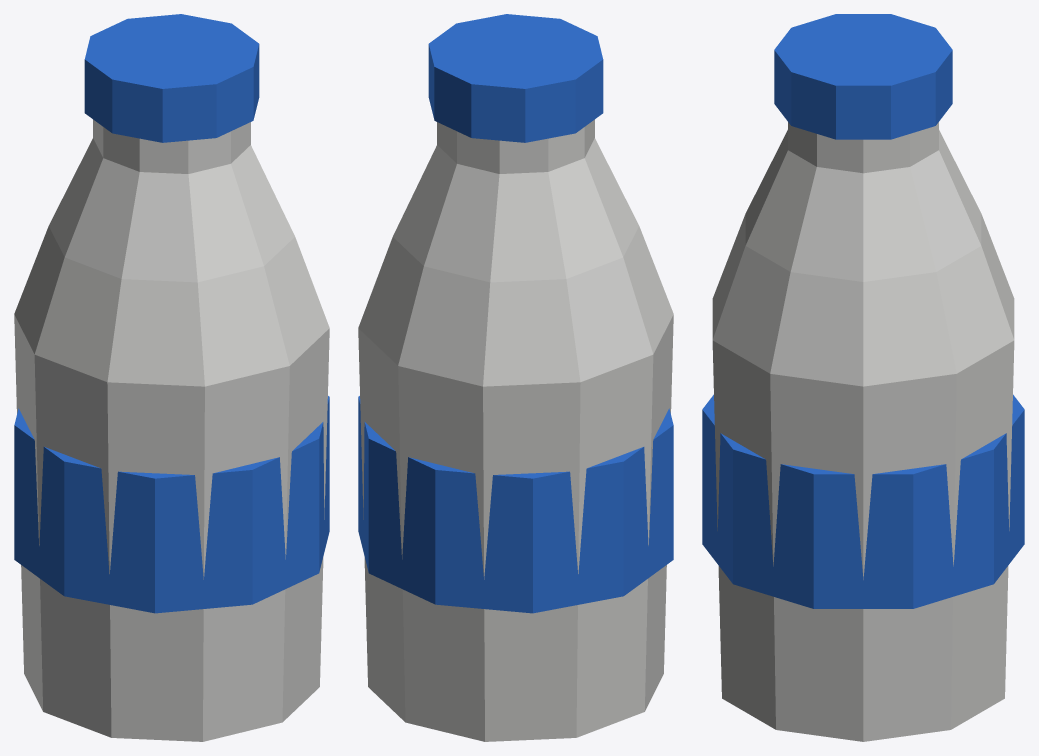
Rendered from milk_bottle.glb.
3 renders of one model, left to right at view 1: azimuth 30°, elevation 25°; view 2: azimuth 150°, elevation 25°; view 3: azimuth 270°, elevation 25°, orthographic.
Visible parts, largest first — view 1: milk_bottle; view 2: milk_bottle; view 3: milk_bottle.
Boxes of the visible parts, x1=… form: milk_bottle: x1=14, y1=14, x2=329, y2=741; milk_bottle: x1=358, y1=14, x2=673, y2=741; milk_bottle: x1=702, y1=14, x2=1024, y2=741.
Bounding box in the file's own units: 0.064 × 0.14 × 0.065.
